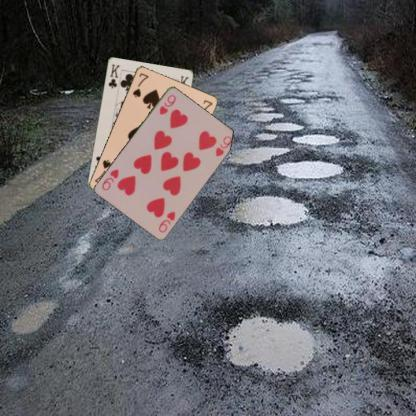7s: (130, 70, 150, 98)
9h: (156, 92, 178, 116), (155, 209, 177, 233)
Kc: (106, 61, 120, 90)
